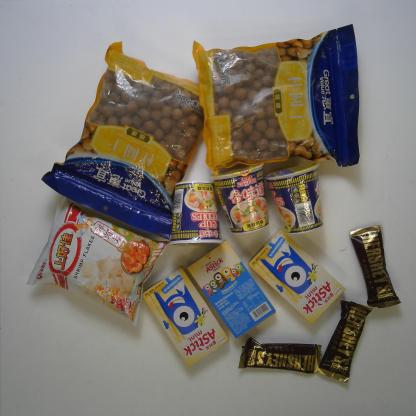Chocolate: (316, 299, 373, 384), (349, 223, 403, 308), (236, 336, 324, 375)
Dessert: (247, 228, 347, 325), (186, 238, 277, 340), (141, 266, 230, 368)
Dried Food: (39, 39, 208, 244), (191, 22, 362, 178)
Instant Noodles: (210, 162, 271, 235), (266, 160, 326, 234), (169, 180, 224, 246)
Puffed Food: (25, 195, 169, 328)
